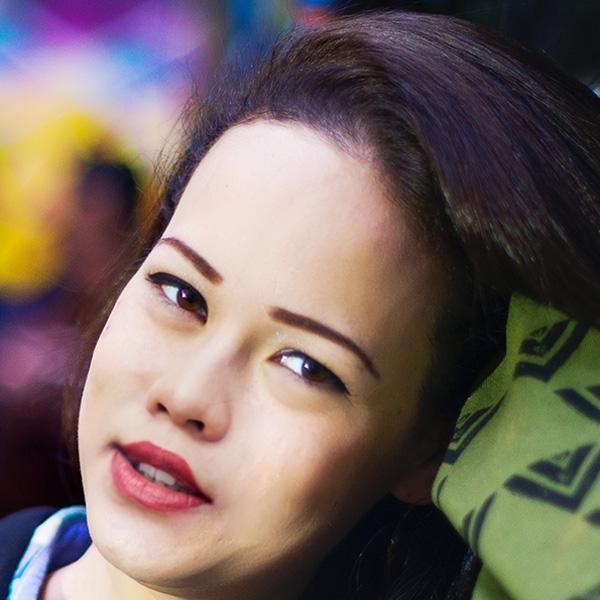Eyes: (256, 335, 355, 406), (141, 260, 211, 329)
